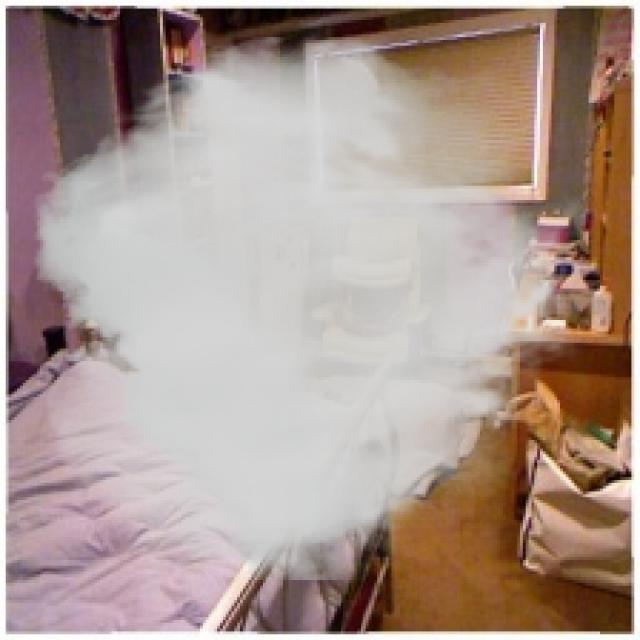Smoke: (34, 28, 594, 580)
